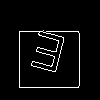E: (25, 30, 68, 83)
